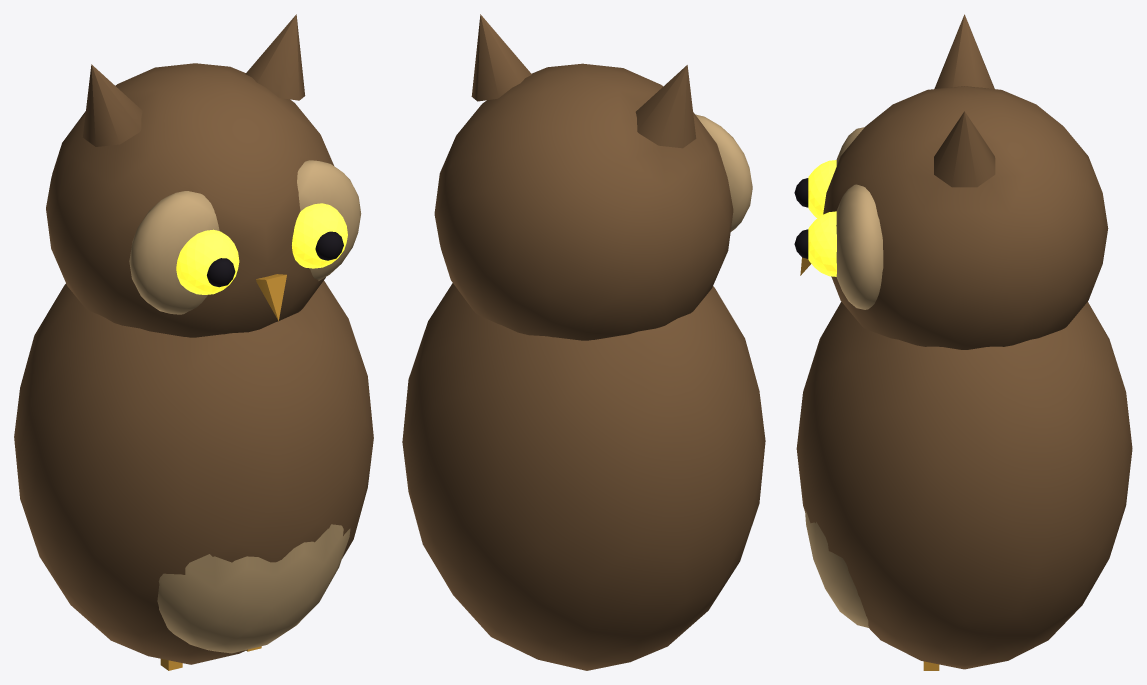
File: owl.glb
The picture shows the model from 3 angles, left to right: view 1: azimuth 30°, elevation 25°; view 2: azimuth 150°, elevation 25°; view 3: azimuth 270°, elevation 25°; orthographic projection. The views are drawn at different scales.
Parts seen in each view (by area): view 1: owl, owl.head; view 2: owl, owl.head; view 3: owl, owl.head.
Part boxes in pixels (x1,y1,x2,y2): owl: (14, 280, 373, 670); owl.head: (46, 14, 361, 337); owl: (402, 283, 765, 670); owl.head: (434, 14, 752, 340); owl: (796, 302, 1132, 670); owl.head: (794, 14, 1108, 349).
Size of the model in its own units: 0.32 by 0.5938 by 0.306.
